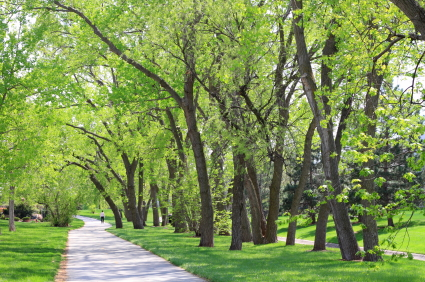tree: (116, 1, 230, 260)
